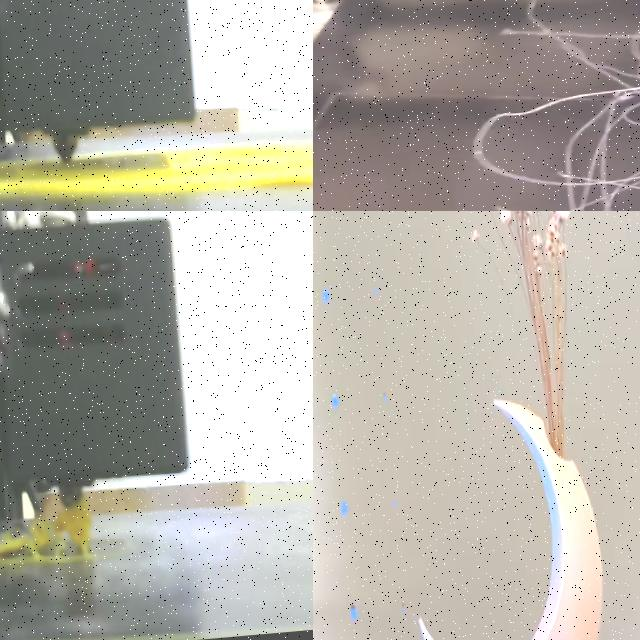spaghetti: (444, 0, 640, 211), (0, 495, 92, 564)
